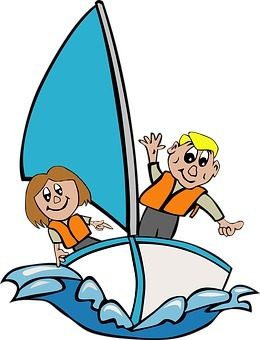boat: (4, 8, 246, 337)
person: (132, 123, 243, 245), (18, 166, 115, 266)
